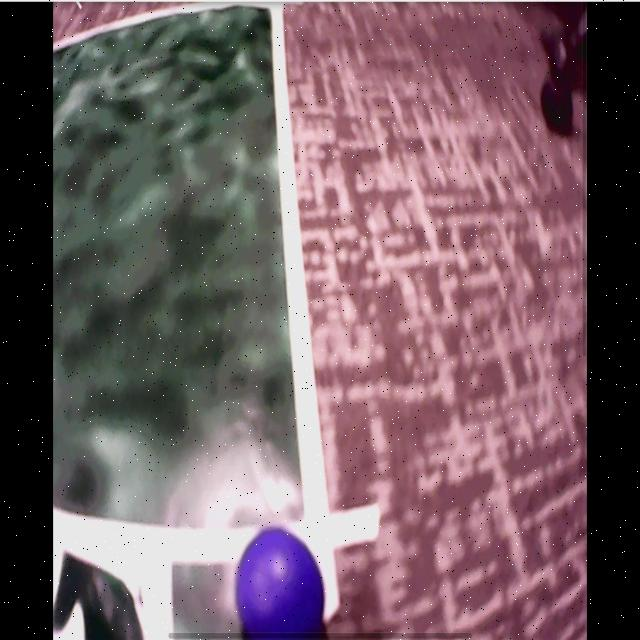ball: (236, 527, 325, 640)
